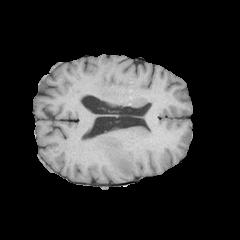glioma: (101, 135, 136, 177)
